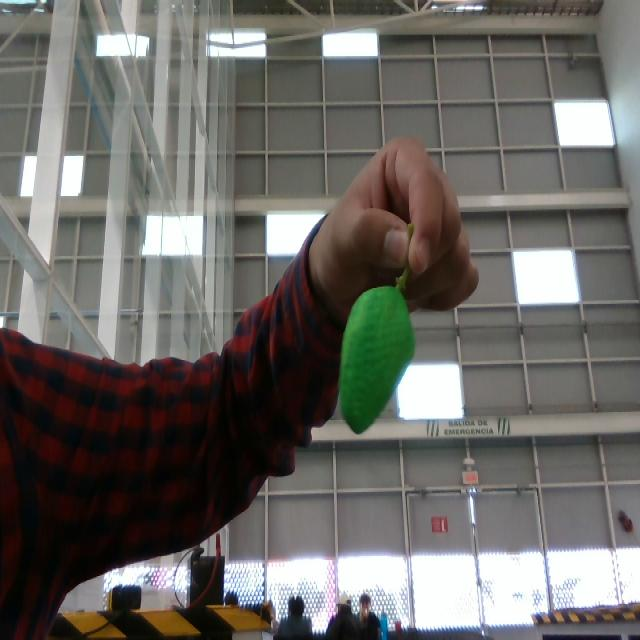verde: (337, 286, 418, 436)
